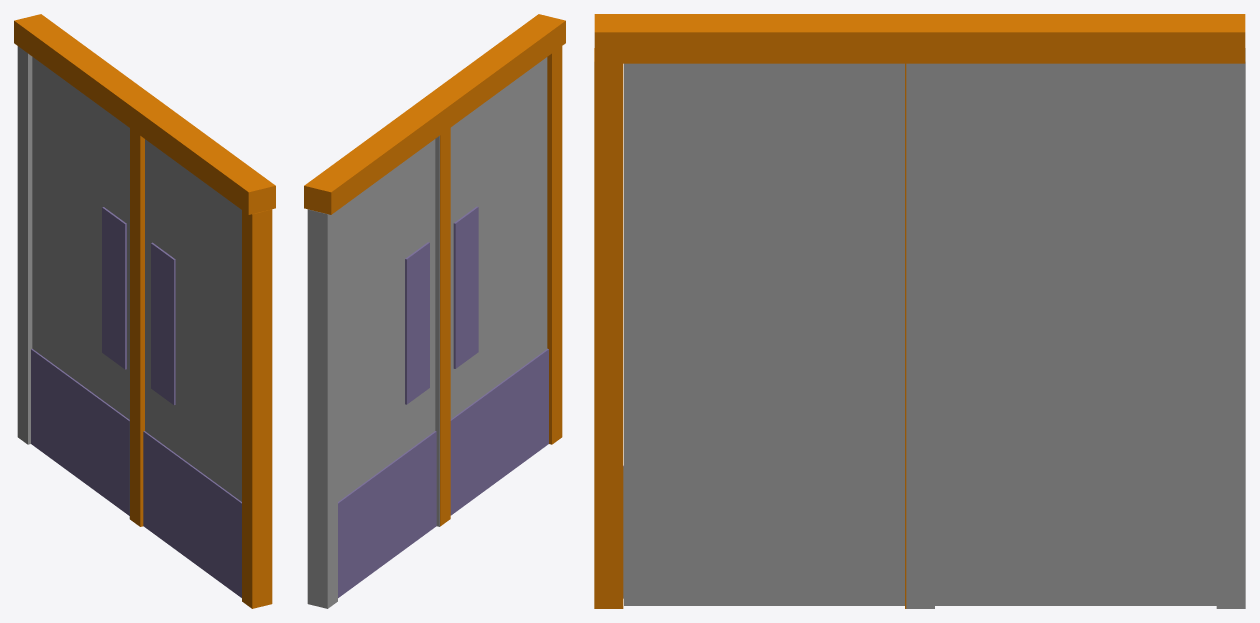
Rendered from UV_DoubleDoor.fbx.
3 views of the same model, side by side, from view 1: azimuth 30°, elevation 25°; view 2: azimuth 150°, elevation 25°; view 3: azimuth 270°, elevation 25° (orthographic). The views are drawn at different scales.
Visible parts, largest first — view 1: doubleDoor; view 2: doubleDoor; view 3: doubleDoor.
Part boxes in pixels (left/top/right/bottom): doubleDoor: left=14, top=14, right=275, bottom=608; doubleDoor: left=304, top=14, right=565, bottom=608; doubleDoor: left=594, top=14, right=1245, bottom=608.
Bounding box in the file's own units: 0.6817 × 10.01 × 10.2.
